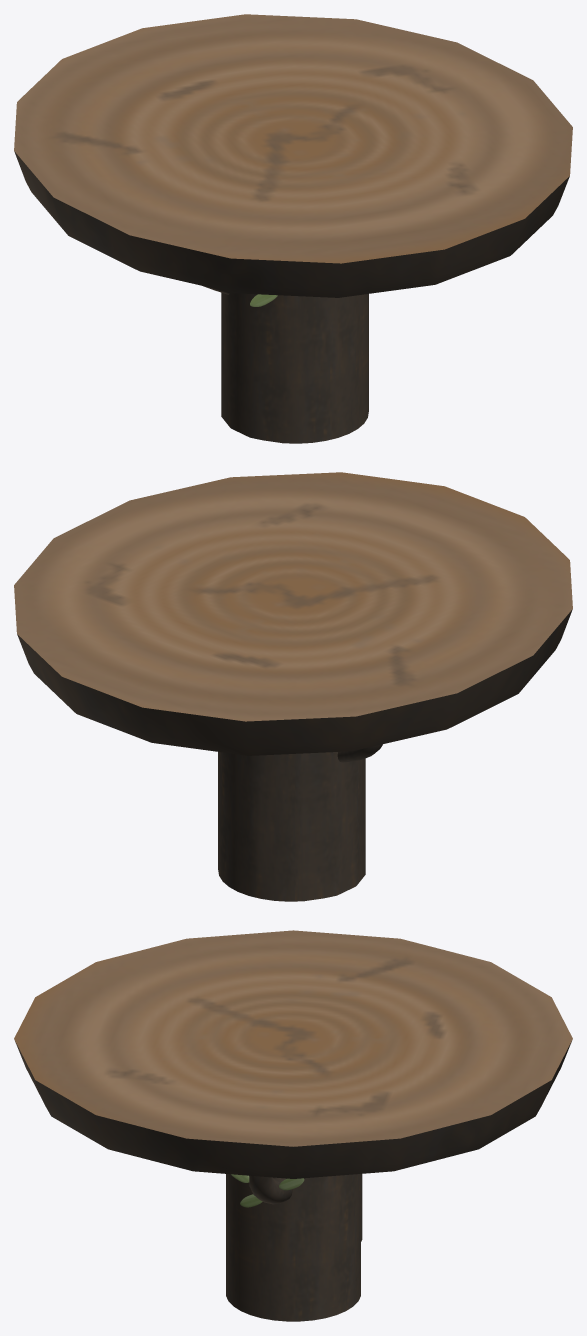
File: Table 2.fbx
3 views of the same model, one above another, from view 1: azimuth 30°, elevation 25°; view 2: azimuth 150°, elevation 25°; view 3: azimuth 270°, elevation 25° (orthographic). The views are drawn at different scales.
Parts seen in each view (by area): view 1: Table_2; view 2: Table_2; view 3: Table_2.
Part boxes in pixels (bbox=[...]): Table_2: bbox=[14, 14, 572, 443]; Table_2: bbox=[14, 472, 572, 901]; Table_2: bbox=[14, 930, 572, 1321].
Size of the model in its own units: 187 by 102 by 204.
1 material, 1 textured.
